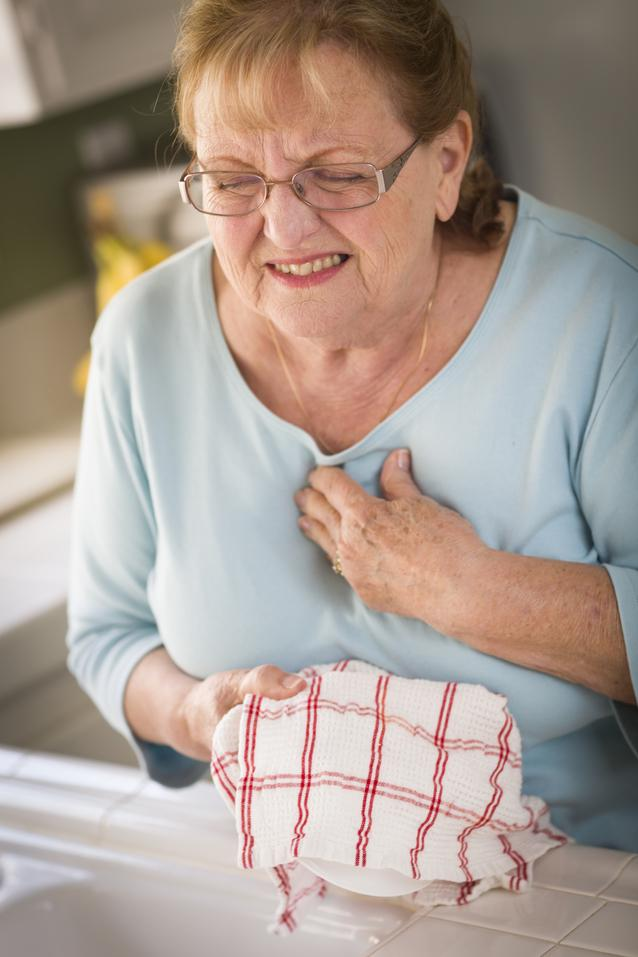pain: (176, 146, 405, 224)
